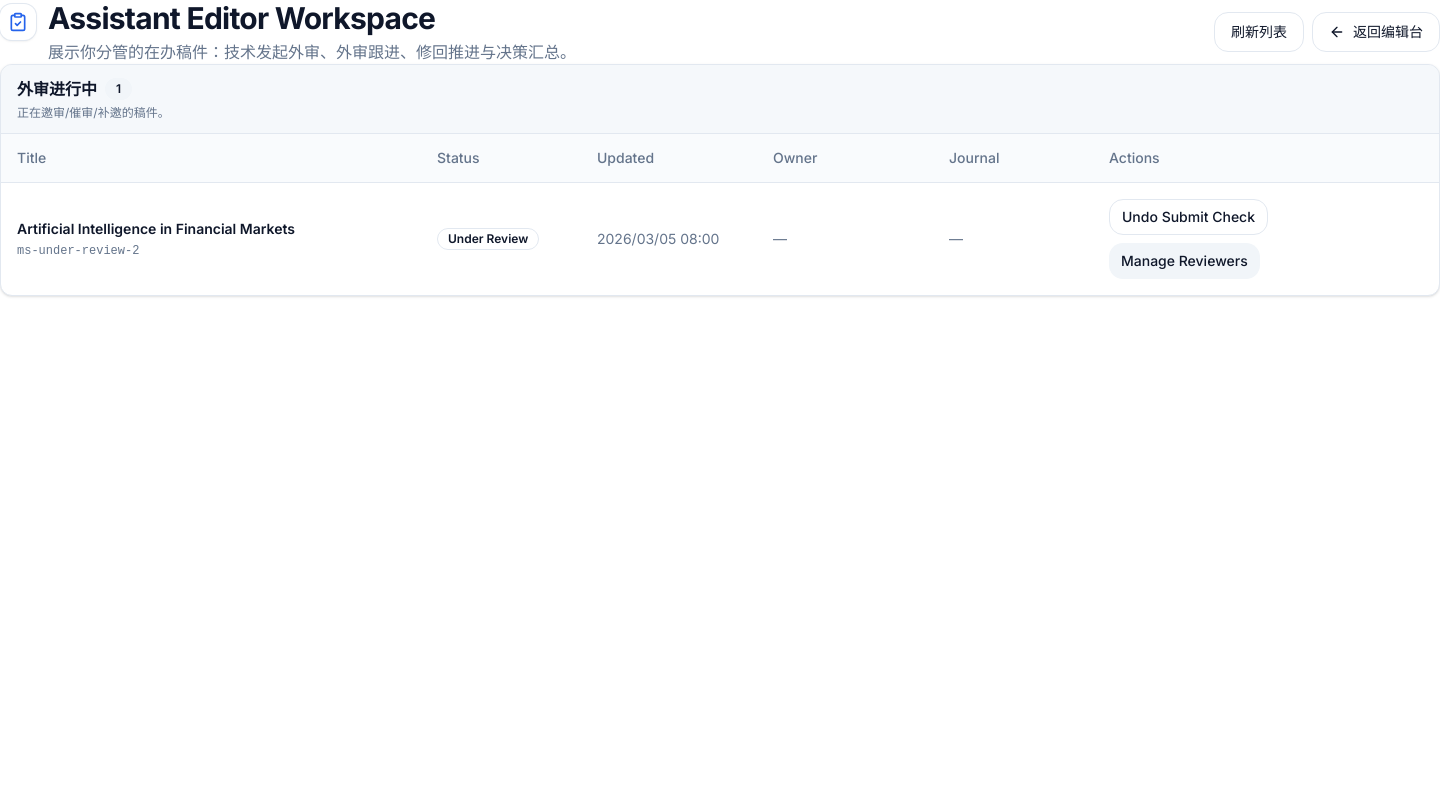
AEWorkspacePanel revert technical check › validates reason length and submits revert request
Click the button "Undo Submit Check" at coordinates (1188, 216), box [1109, 198, 1268, 234]
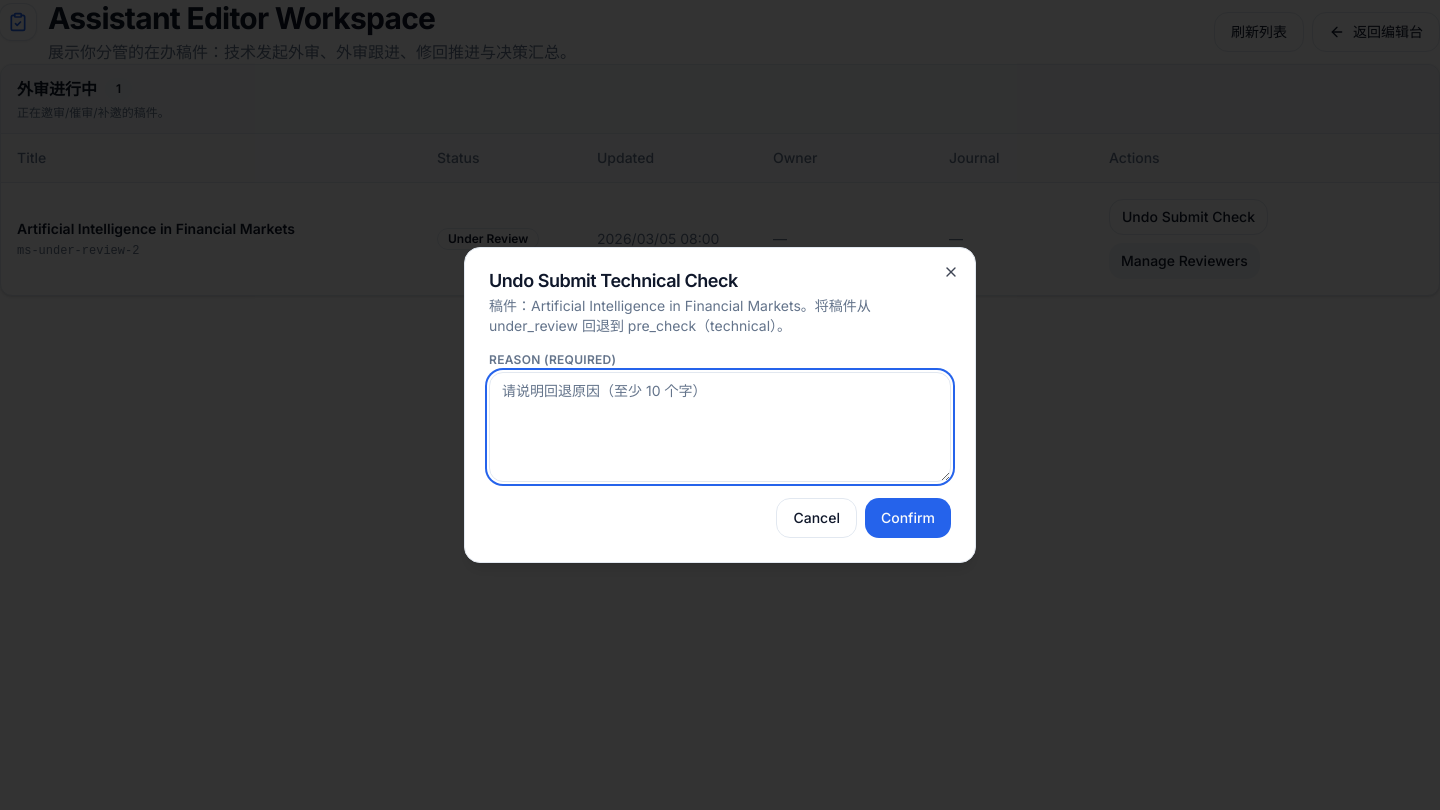
Check: the heading "Undo Submit Technical Check" is shown, box [489, 270, 738, 291]
Click the button "Confirm" at coordinates (908, 518), box [865, 498, 951, 538]
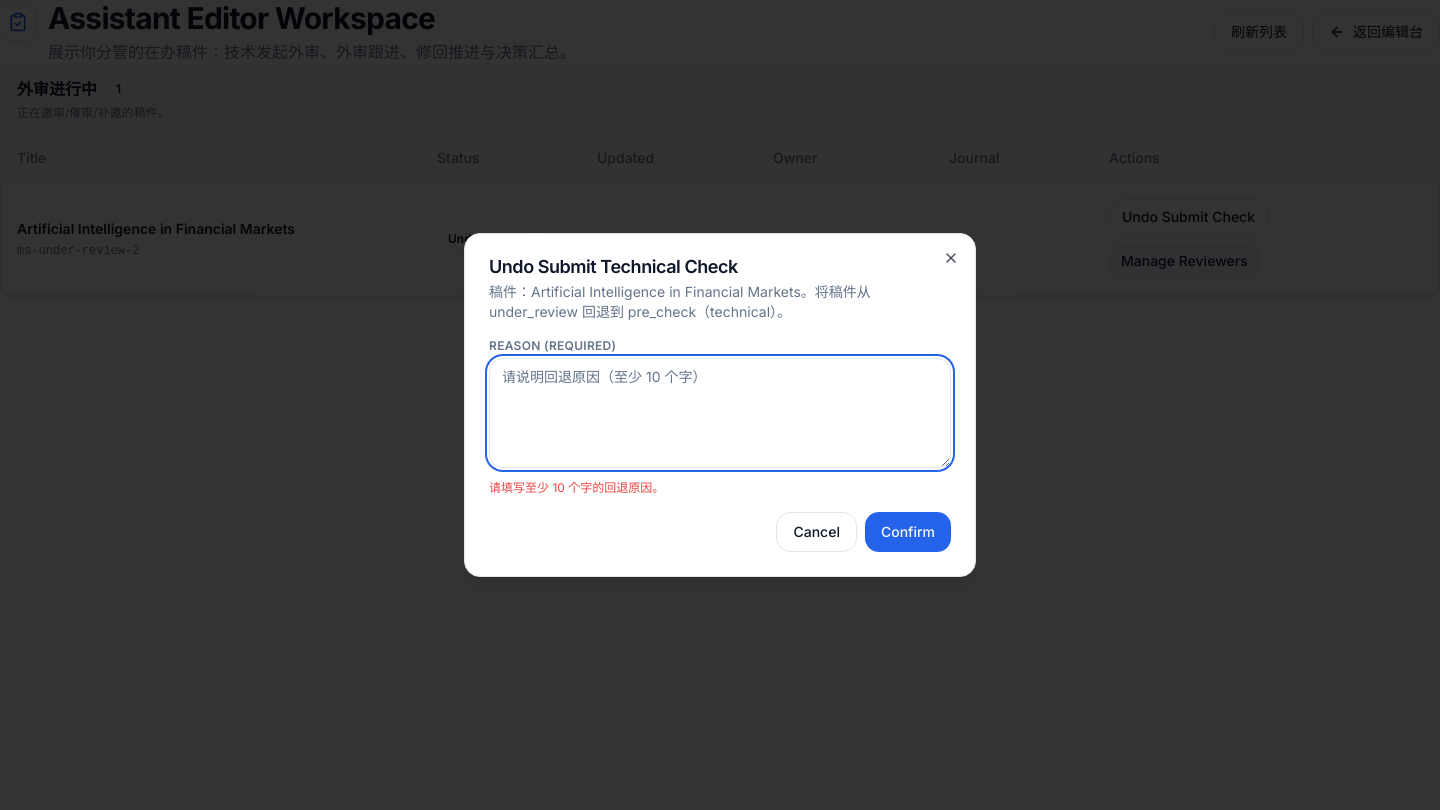
Check: the text "请填写至少 10 个字的回退原因。" is shown, box [489, 480, 664, 495]
Type "误触提交外审，撤回到技术检查阶段" into the text box with placeholder "请说明回退原因（至少 10 个字）" at coordinates (720, 413), box [489, 358, 951, 468]
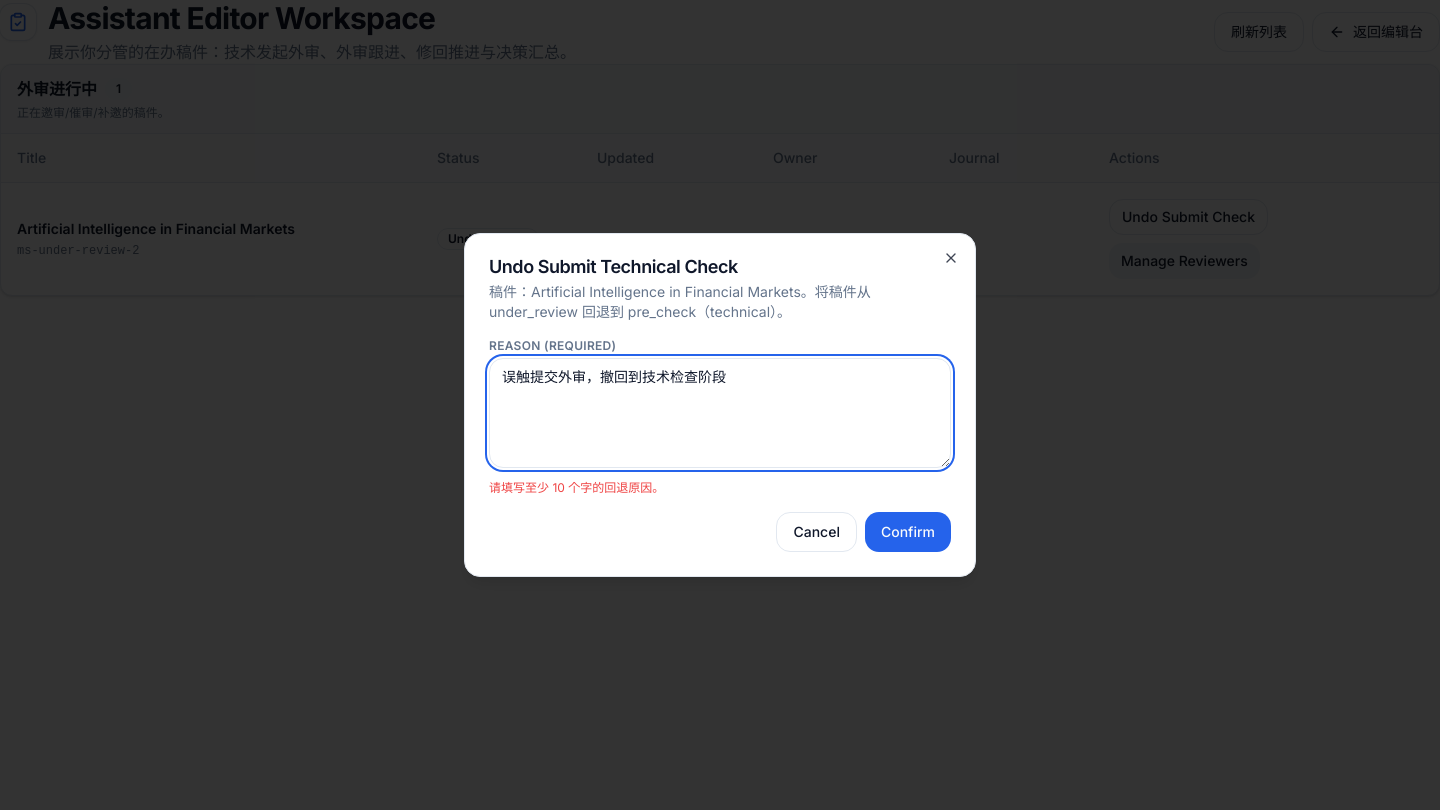
Click the button "Confirm" at coordinates (908, 532), box [865, 512, 951, 552]
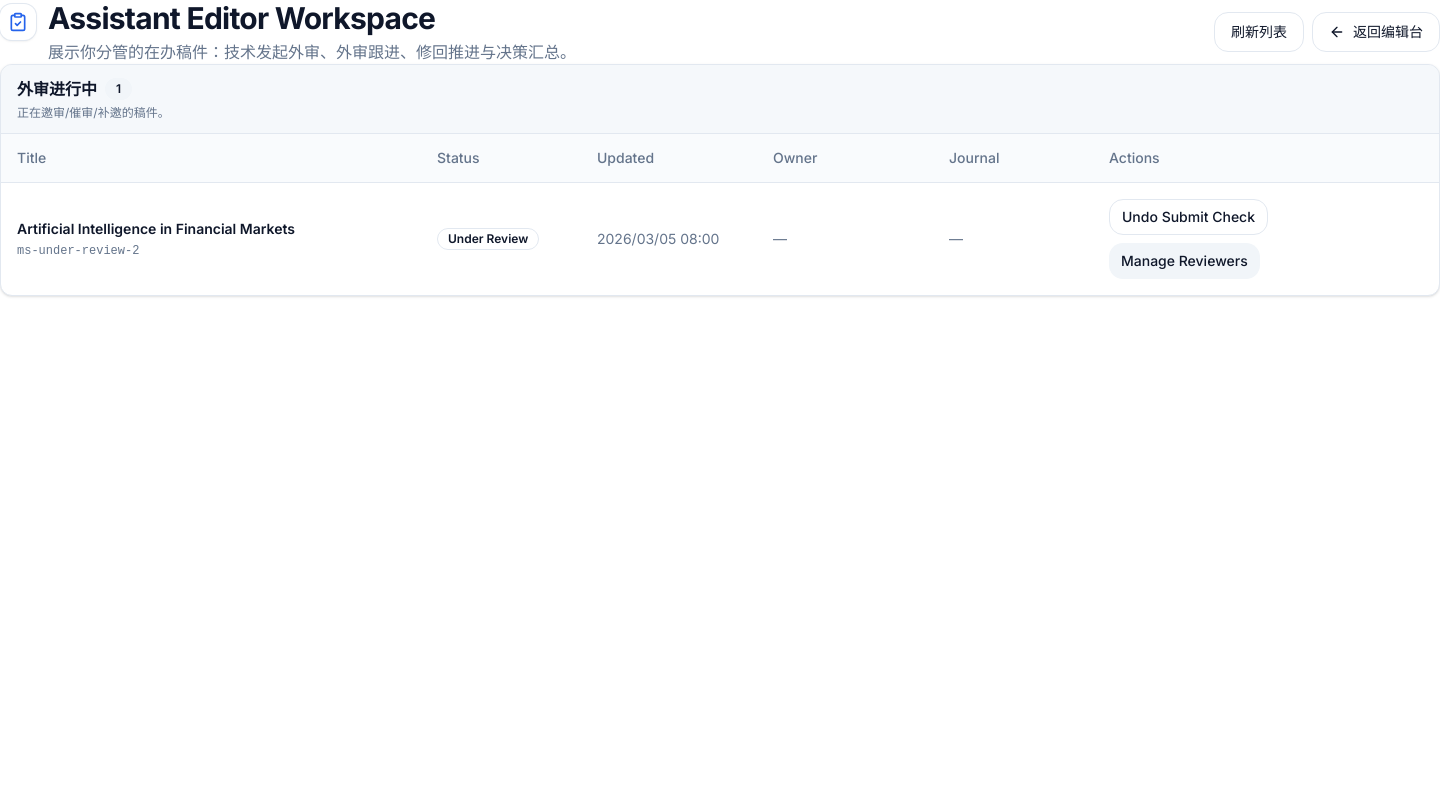
Check: the heading "Undo Submit Technical Check" is gone
